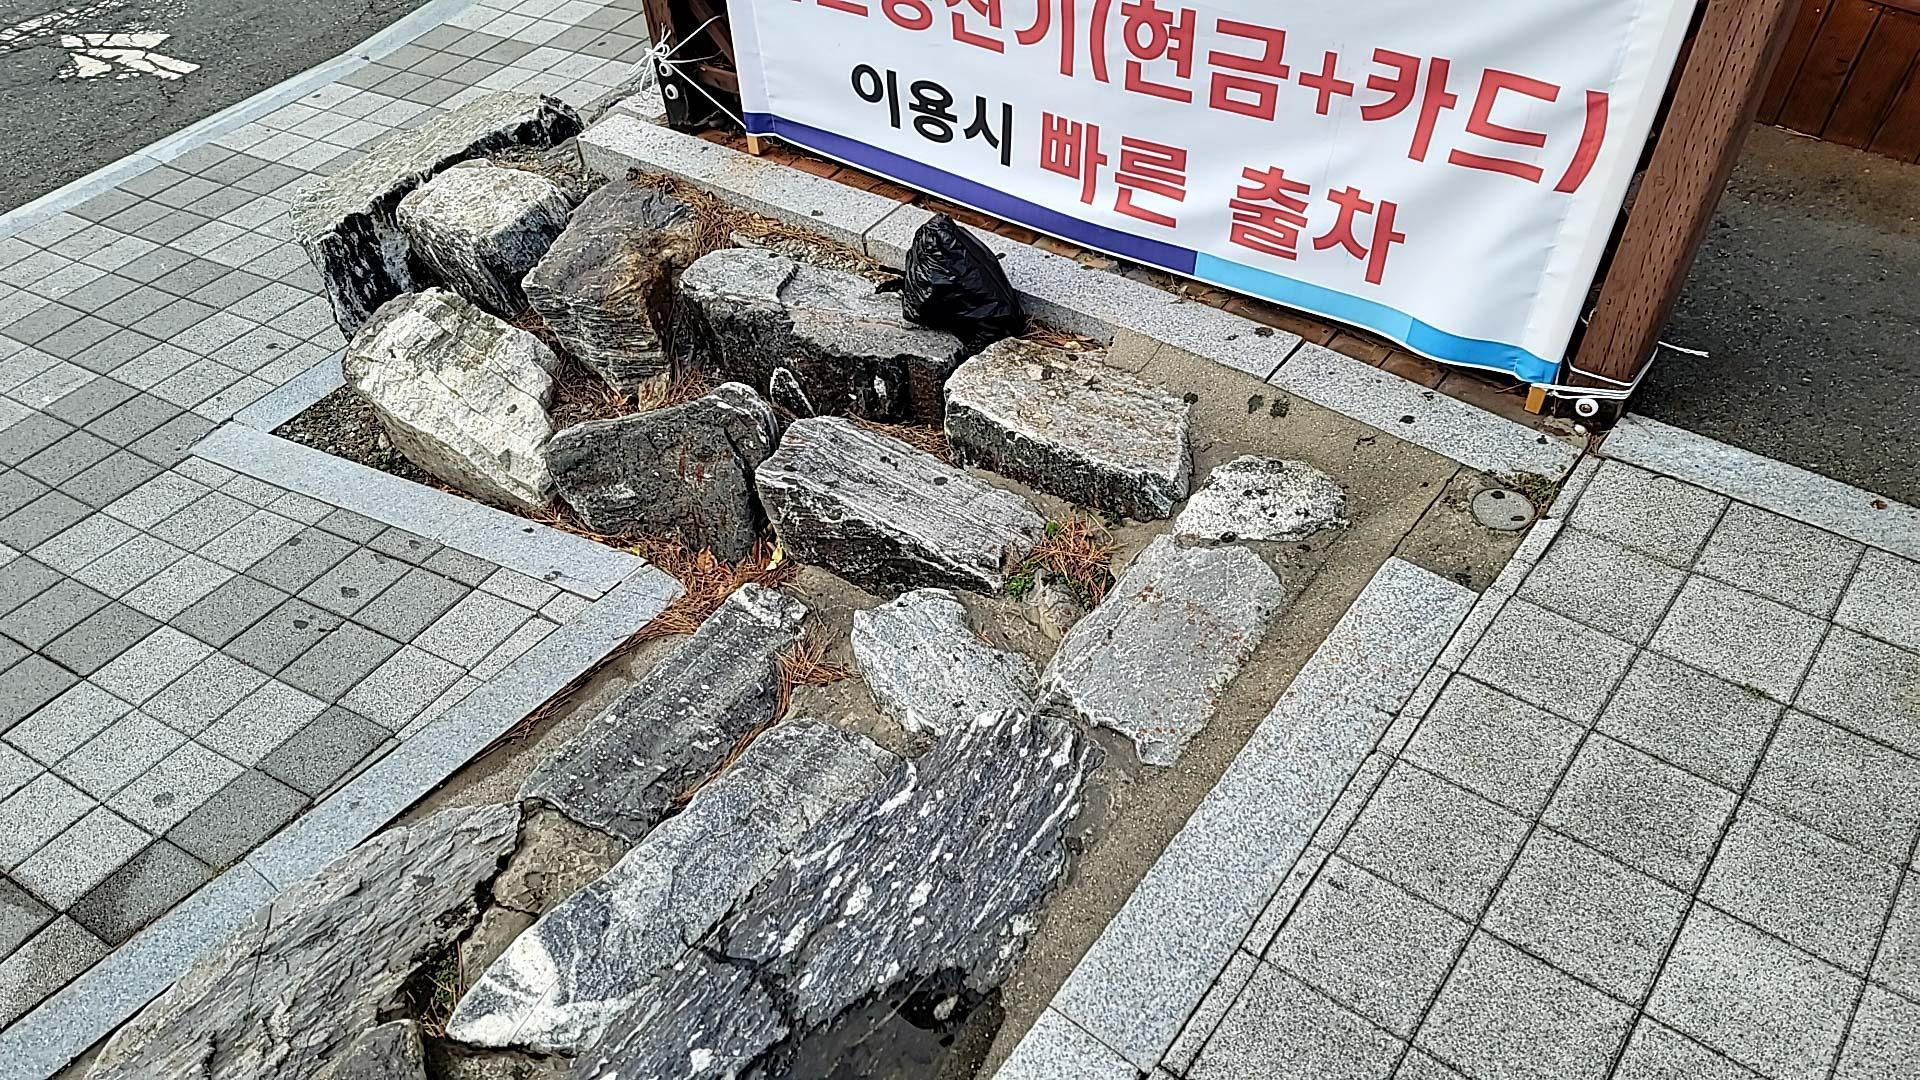black_bag: (872, 208, 1029, 353)
